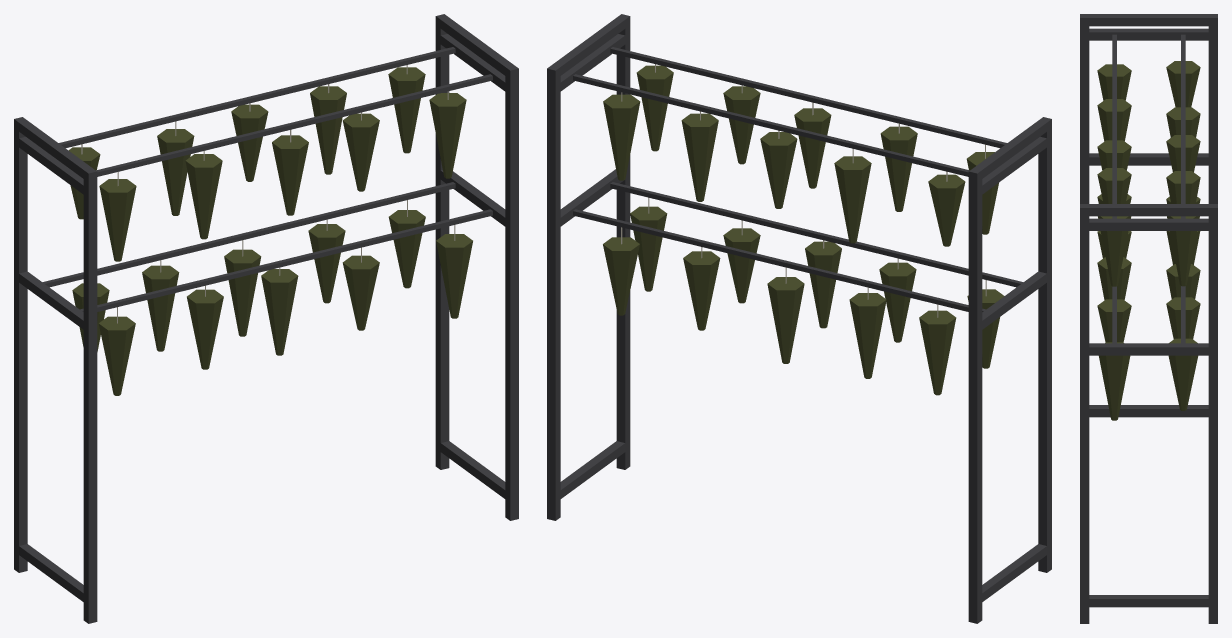
Rendered from Weed_DryingRack.glb.
The picture shows the model from 3 angles, left to right: view 1: azimuth 30°, elevation 25°; view 2: azimuth 150°, elevation 25°; view 3: azimuth 270°, elevation 25°; orthographic projection. The views are drawn at different scales.
Visible parts, largest first — view 1: Weed_DryingRack; view 2: Weed_DryingRack; view 3: Weed_DryingRack.
Boxes of the visible parts, x1,y1,x2,y2 form: Weed_DryingRack: [14, 14, 518, 623]; Weed_DryingRack: [547, 14, 1051, 623]; Weed_DryingRack: [1080, 14, 1217, 623].
Size of what is drawn, in the model's own units: 2 by 2 by 0.6.
